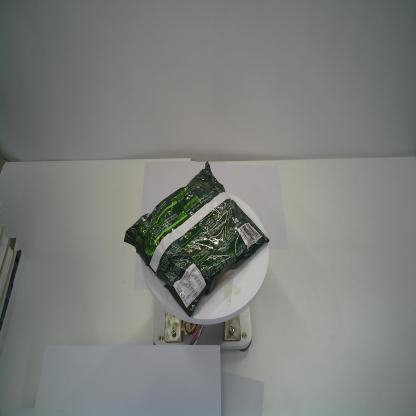Instant Noodles: (122, 159, 270, 318)
